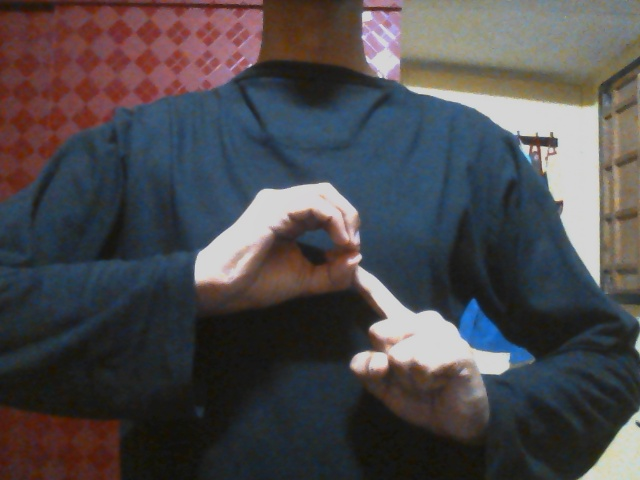Q: (205, 180, 485, 445)
